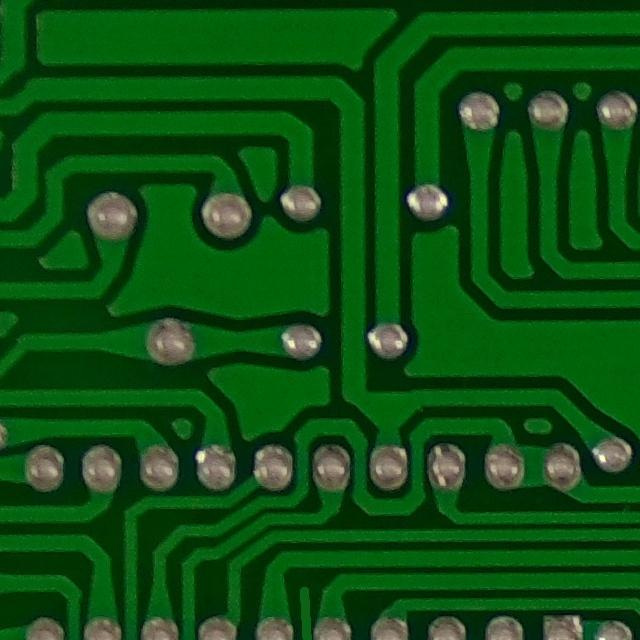spurious_copper: (285, 574, 319, 640)
